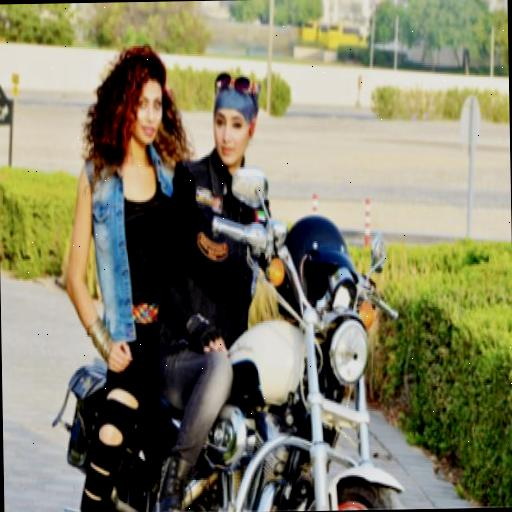no helmet: (168, 42, 423, 512)
